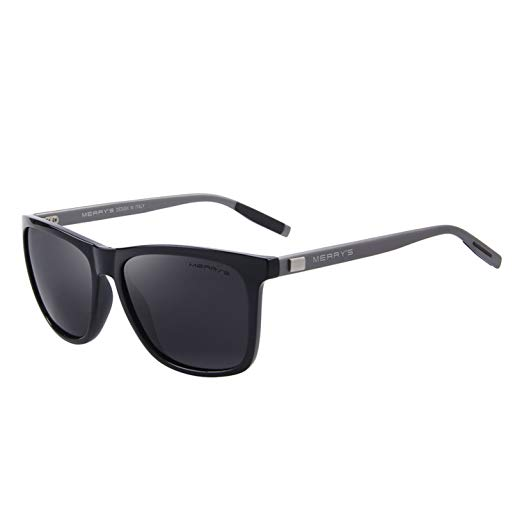sunglasses: (11, 214, 342, 383)
